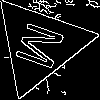M: (14, 20, 74, 75)
